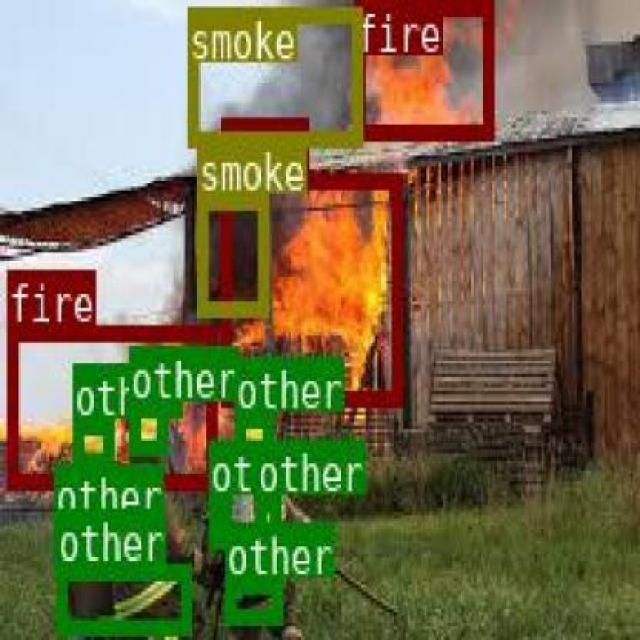Fire: (220, 169, 398, 403), (5, 323, 213, 484), (351, 0, 490, 135)
Smoke: (186, 3, 360, 142), (197, 191, 266, 314)
